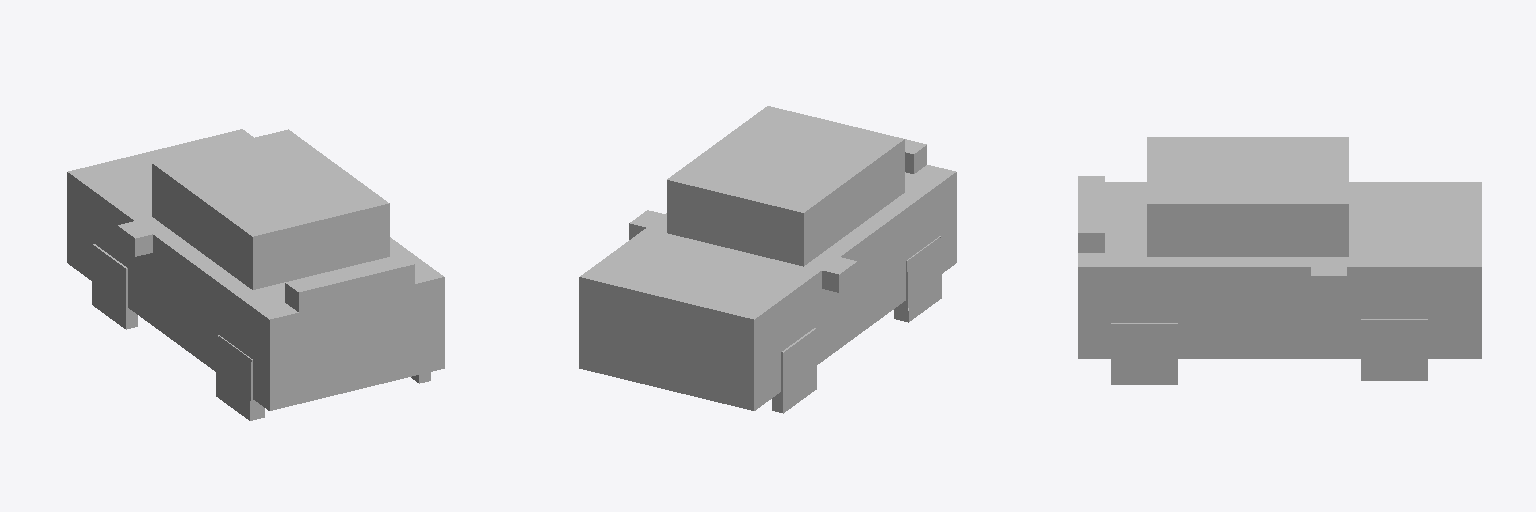
The model's file is Car.obj.
The picture shows the model from 3 angles: view 1: azimuth 30°, elevation 25°; view 2: azimuth 150°, elevation 25°; view 3: azimuth 270°, elevation 25°; orthographic projection.
Parts seen in each view (by area): view 1: Car.001_Plane.009; view 2: Car.001_Plane.009; view 3: Car.001_Plane.009.
Boxes of the visible parts, box(x1,y1,x2,y2) form: Car.001_Plane.009: box(67, 129, 444, 420); Car.001_Plane.009: box(579, 106, 956, 413); Car.001_Plane.009: box(1078, 137, 1481, 384).
Size of the model in its own units: 3.6 by 2.79 by 6.